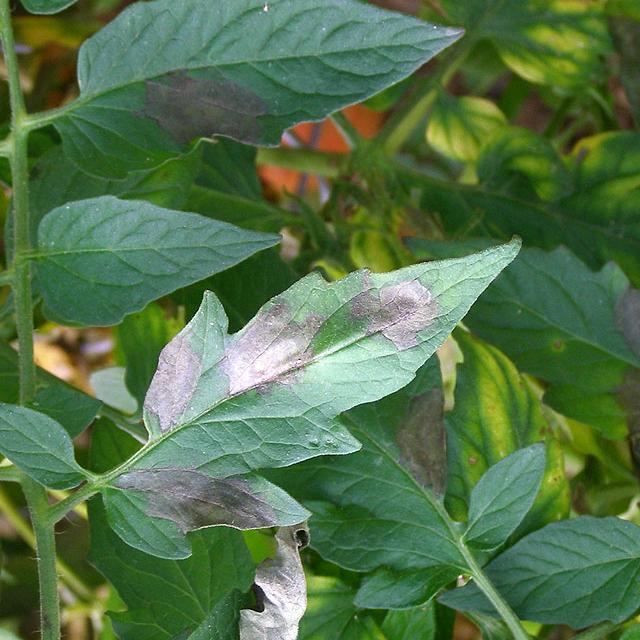Tomato leaf late blight: (84, 253, 516, 535), (40, 0, 476, 161), (441, 249, 640, 493), (580, 593, 640, 640)
